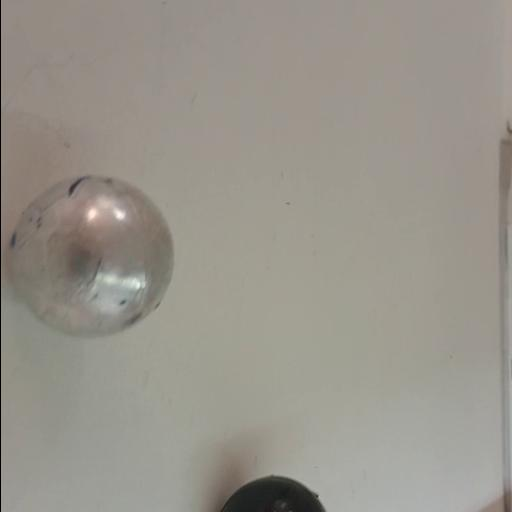alive: (5, 171, 178, 345)
dead: (216, 474, 330, 512)
